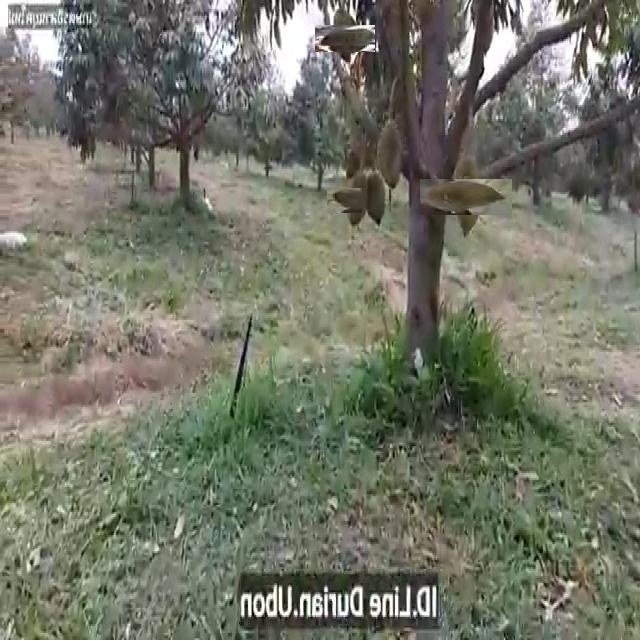durian: (434, 165, 499, 230), (375, 116, 406, 194), (336, 177, 381, 223), (322, 16, 367, 60), (362, 166, 389, 236)
